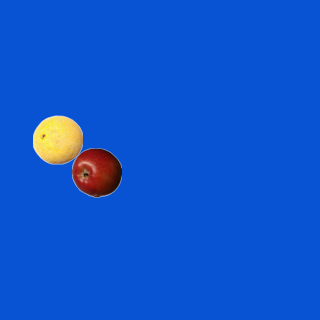Apple Braeburn: (71, 147, 121, 197)
Cantaloupe 1: (32, 114, 82, 164)
